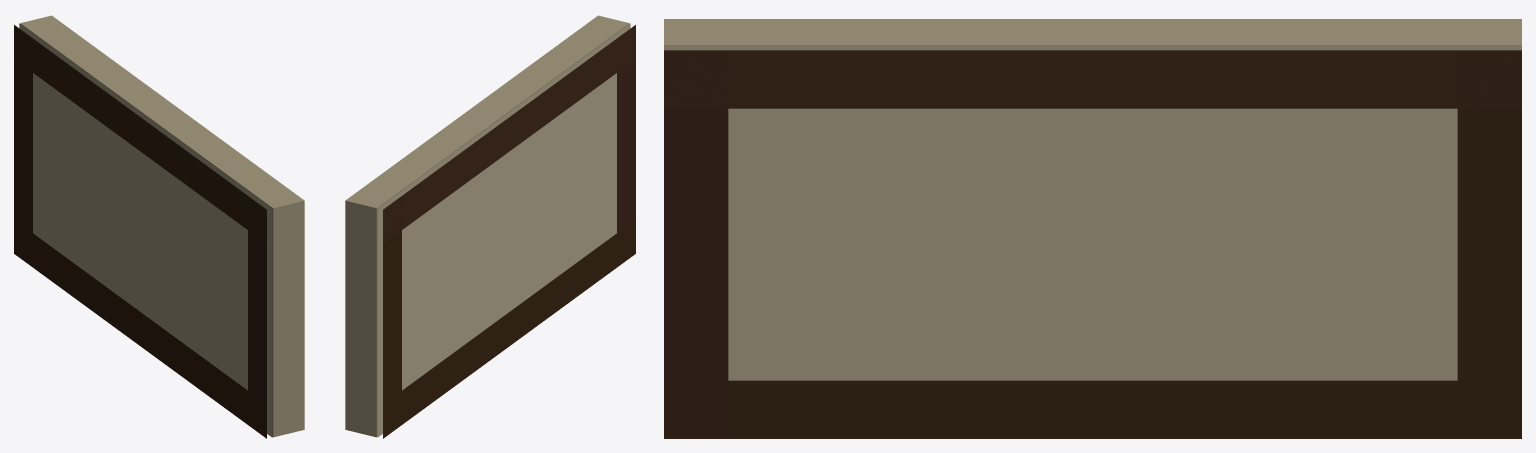
The model's file is wall-halftimber-half.glb.
3 renders of one model, left to right at view 1: azimuth 30°, elevation 25°; view 2: azimuth 150°, elevation 25°; view 3: azimuth 270°, elevation 25°, orthographic. The views are drawn at different scales.
Visible parts, largest first — view 1: wall-halftimber-half; view 2: wall-halftimber-half; view 3: wall-halftimber-half.
Boxes of the visible parts, x1,y1,x2,y2 form: wall-halftimber-half: (14,15,304,438); wall-halftimber-half: (345,15,635,438); wall-halftimber-half: (664,19,1521,438).
Bounding box in the file's own units: 0.1 × 0.5 × 1.
